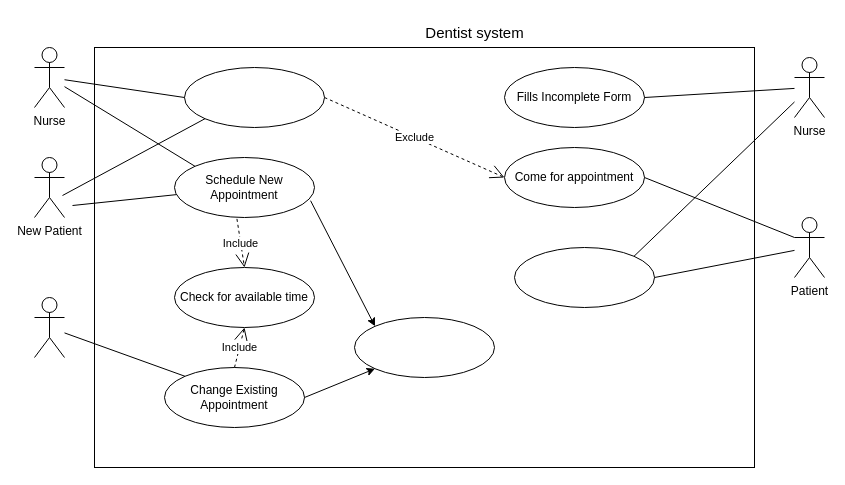
Some shapes in this 845 by 485 pixel diagram are drawn without their labels. Here are the shapes that lost their labels. From the top down, the centre of each, then its label:
the point at 254,97: Patient Registration
the point at 584,277: Send Mail about appointment
the point at 49,327: Old Patient
the point at 424,347: Maintain Appointments
